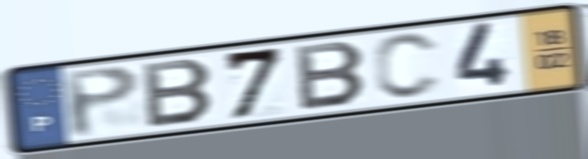4: (452, 18, 520, 95)
7: (223, 44, 286, 123)
B: (140, 56, 217, 130), (292, 39, 369, 113)
C: (371, 31, 445, 102)
P: (59, 62, 144, 140)
